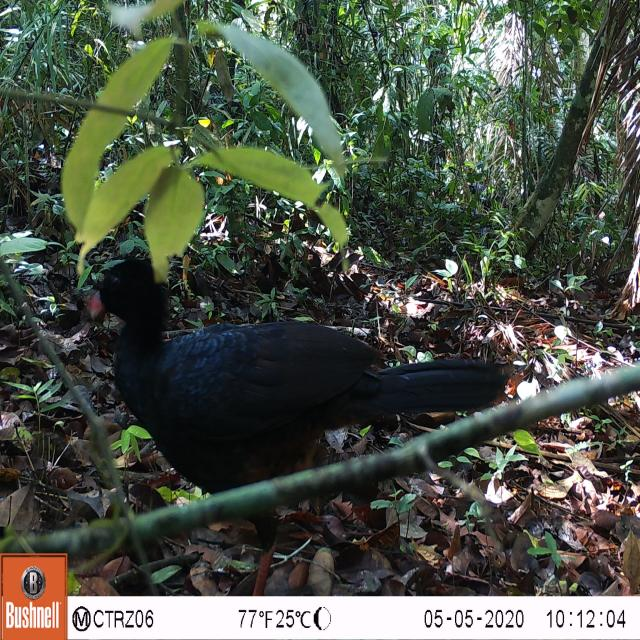Salvins Curassow: (69, 222, 519, 595)
